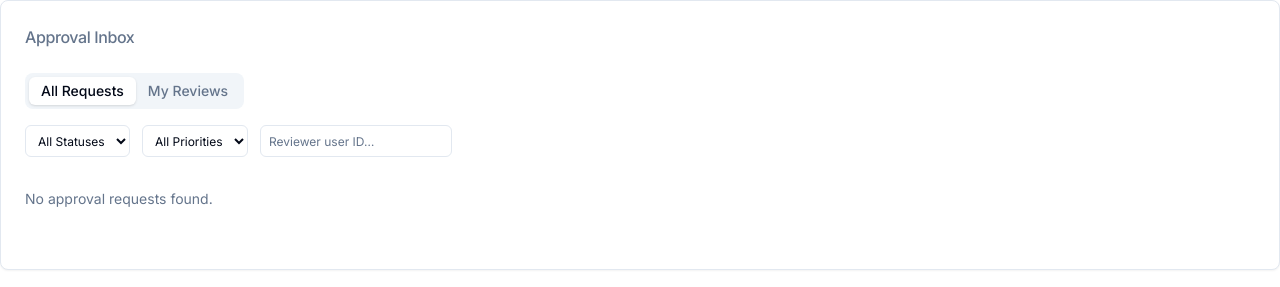
Test: ApprovalInbox › my reviews tab › shows my-reviews error
Click the tab with test id "tab-my-reviews". click: click(188, 91)
box: [136,77,240,105]
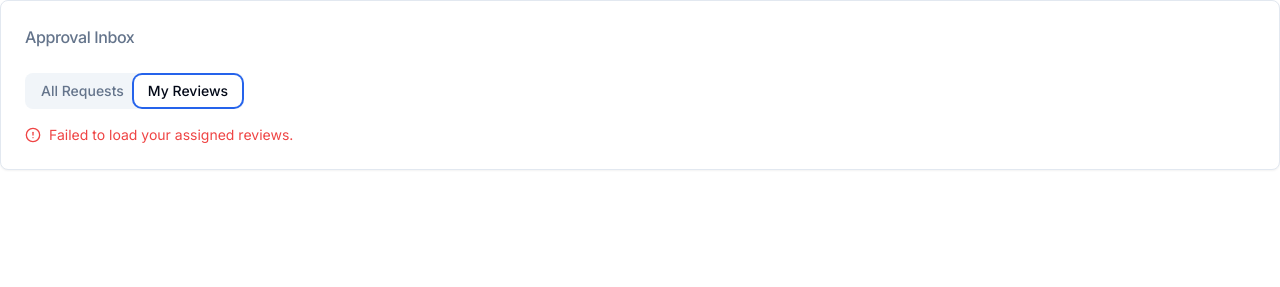
Now the element with test id "my-reviews-error" is shown, box [25,126,293,143]
